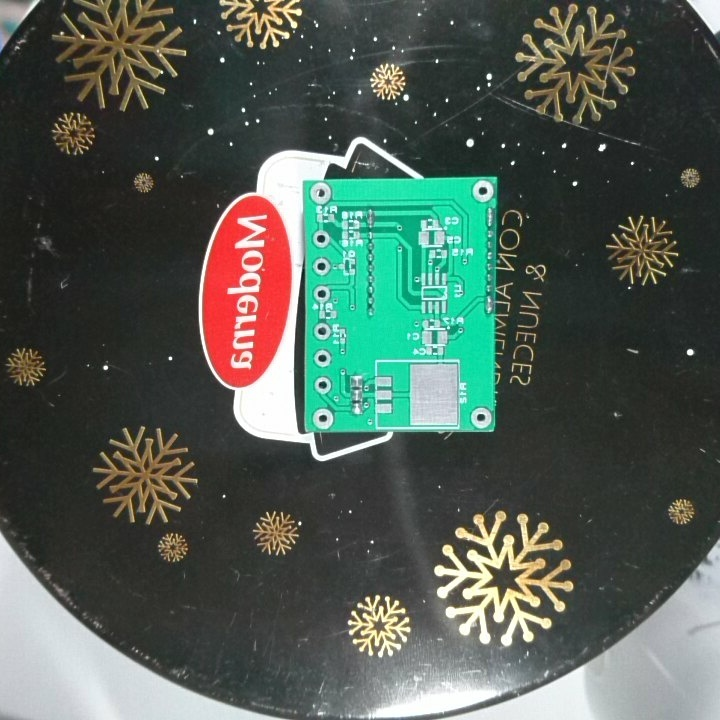F: (467, 406, 494, 430), (310, 405, 335, 429), (308, 180, 334, 203), (469, 179, 495, 201), (311, 346, 334, 370), (311, 281, 332, 305), (311, 226, 331, 249), (313, 373, 333, 395), (311, 255, 331, 276), (311, 320, 331, 340)
P: (483, 203, 497, 227), (365, 205, 377, 229), (483, 293, 494, 318)
